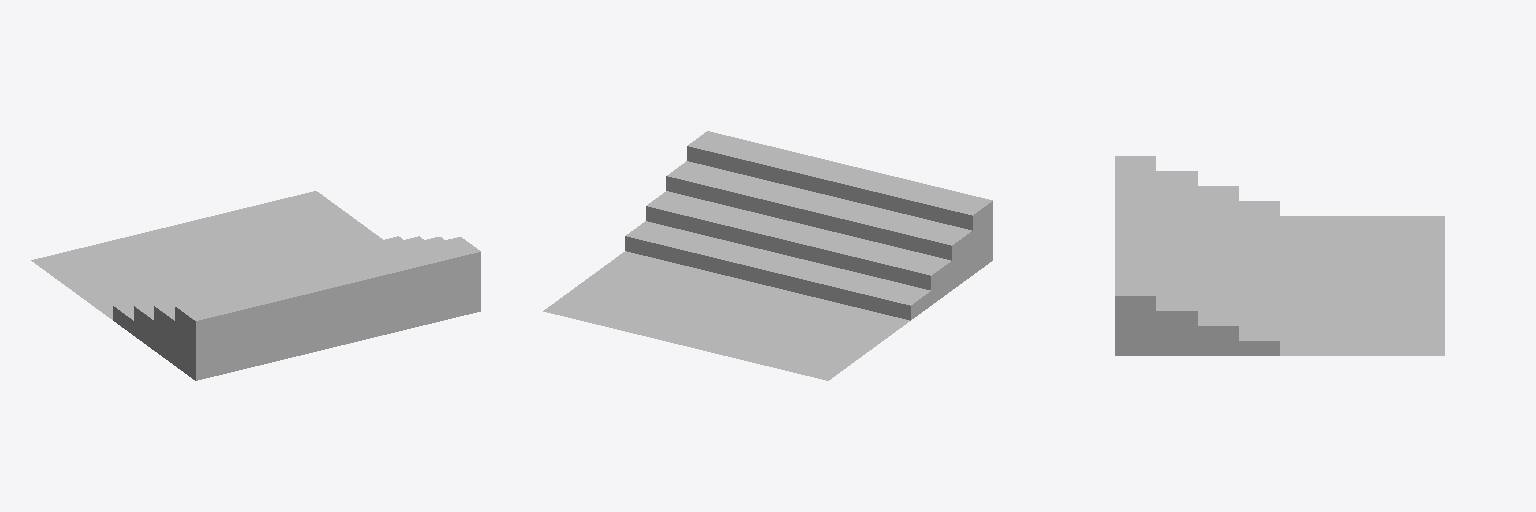
File: floor-steps.obj
The picture shows the model from 3 angles: view 1: azimuth 30°, elevation 25°; view 2: azimuth 150°, elevation 25°; view 3: azimuth 270°, elevation 25°; orthographic projection.
Parts seen in each view (by area): view 1: floor-steps; view 2: floor-steps; view 3: floor-steps.
Boxes of the visible parts, x1,y1,x2,y2 form: floor-steps: [31, 191, 480, 380]; floor-steps: [543, 131, 992, 380]; floor-steps: [1115, 156, 1444, 355].
Size of the model in its own units: 1 by 0.2 by 1.